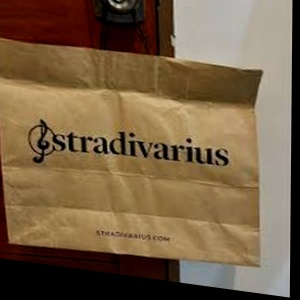stradivarius: (8, 82, 291, 251)
